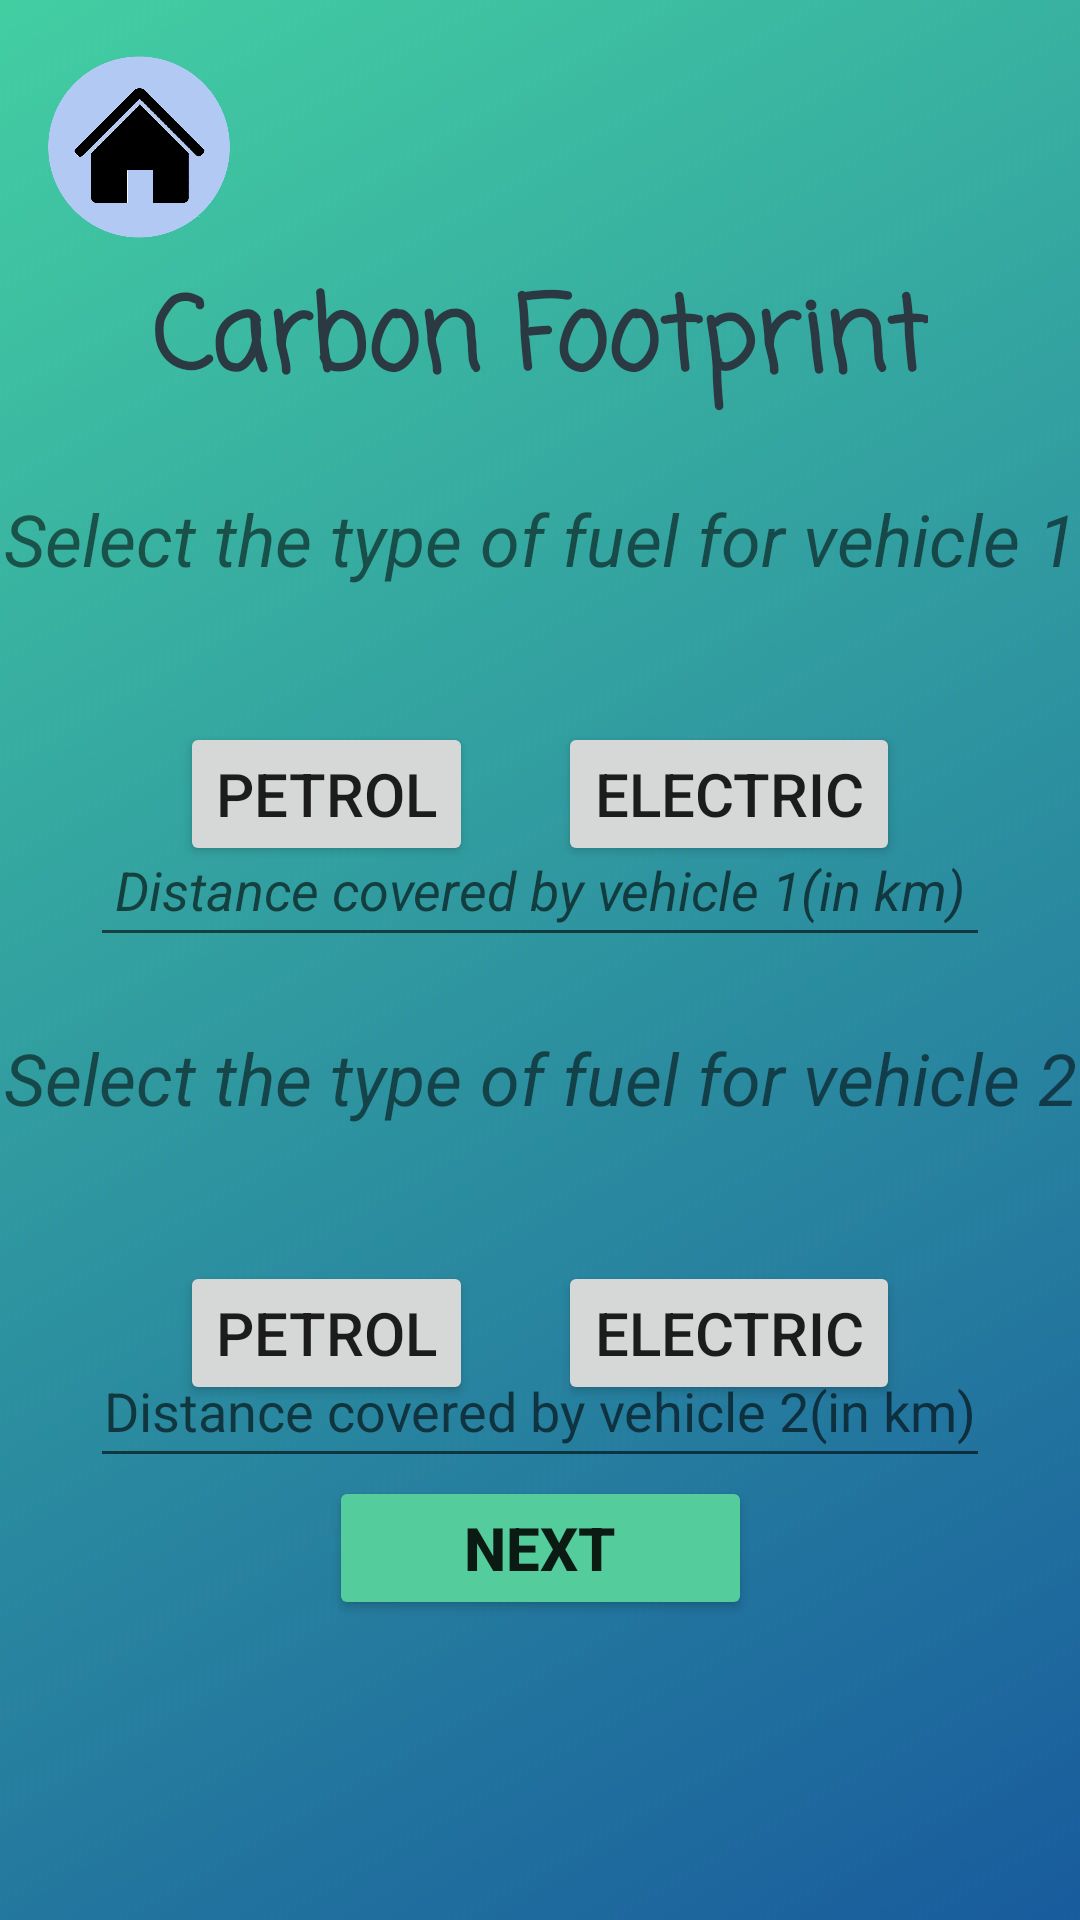

Icons on this 1080 x 1920 Android screen, each with the point to tap as (x=x, y=y):
home: (x=139, y=147)
